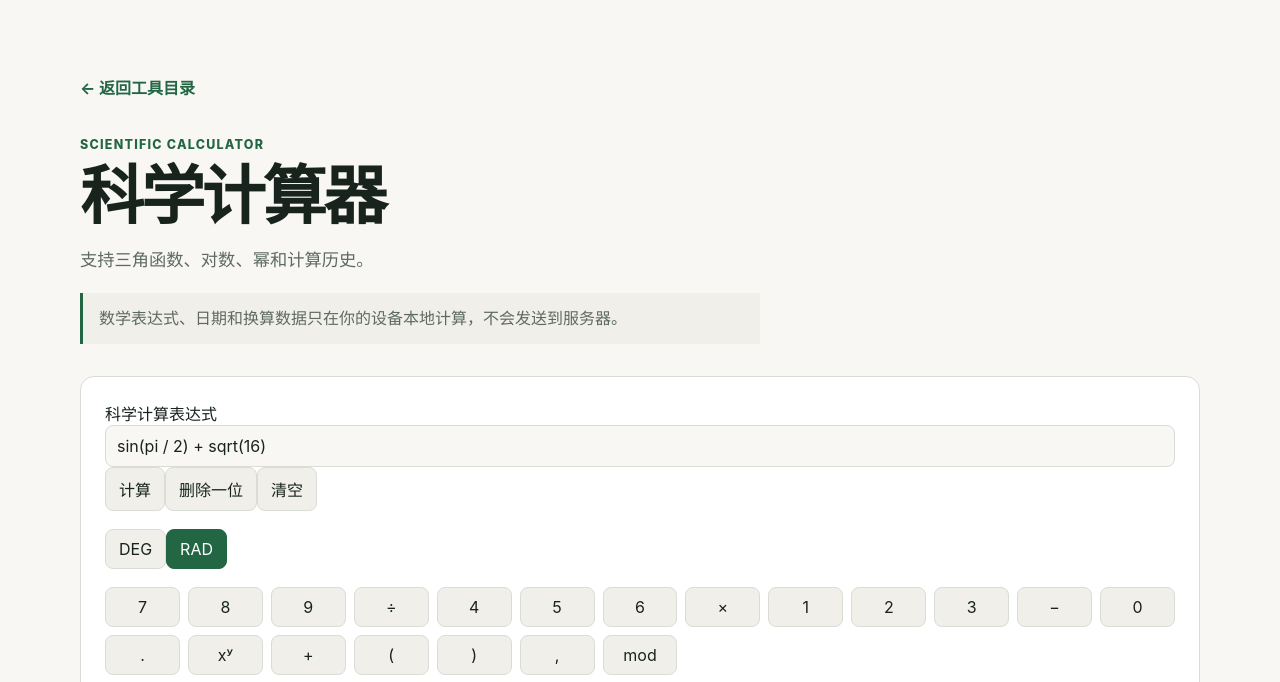
it: 计算工作台关键交互 › 科学计算失败时显示中文错误并清除旧结果
This screenshot has width=1280, height=682.
Replace the text in the field labelled "科学计算表达式" with "2+2" at (640, 446), box [105, 425, 1175, 467]
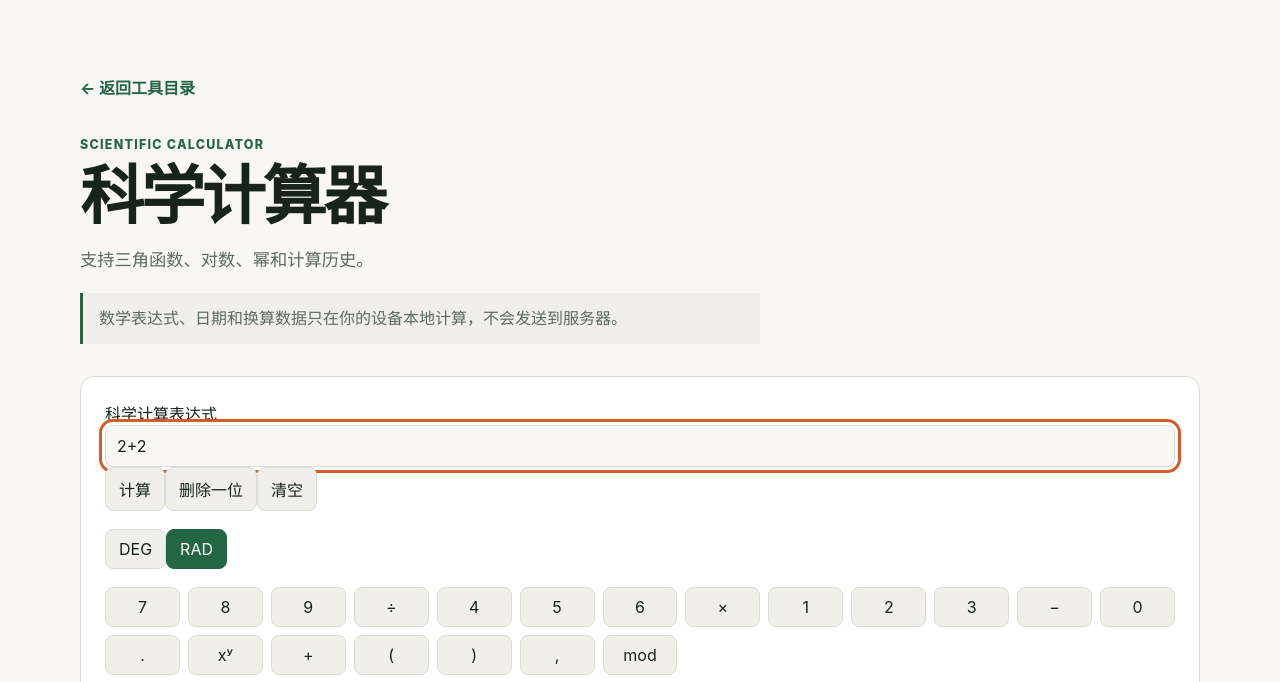
Click the button with aria-label "计算结果".
click(135, 489)  # box [105, 467, 165, 511]
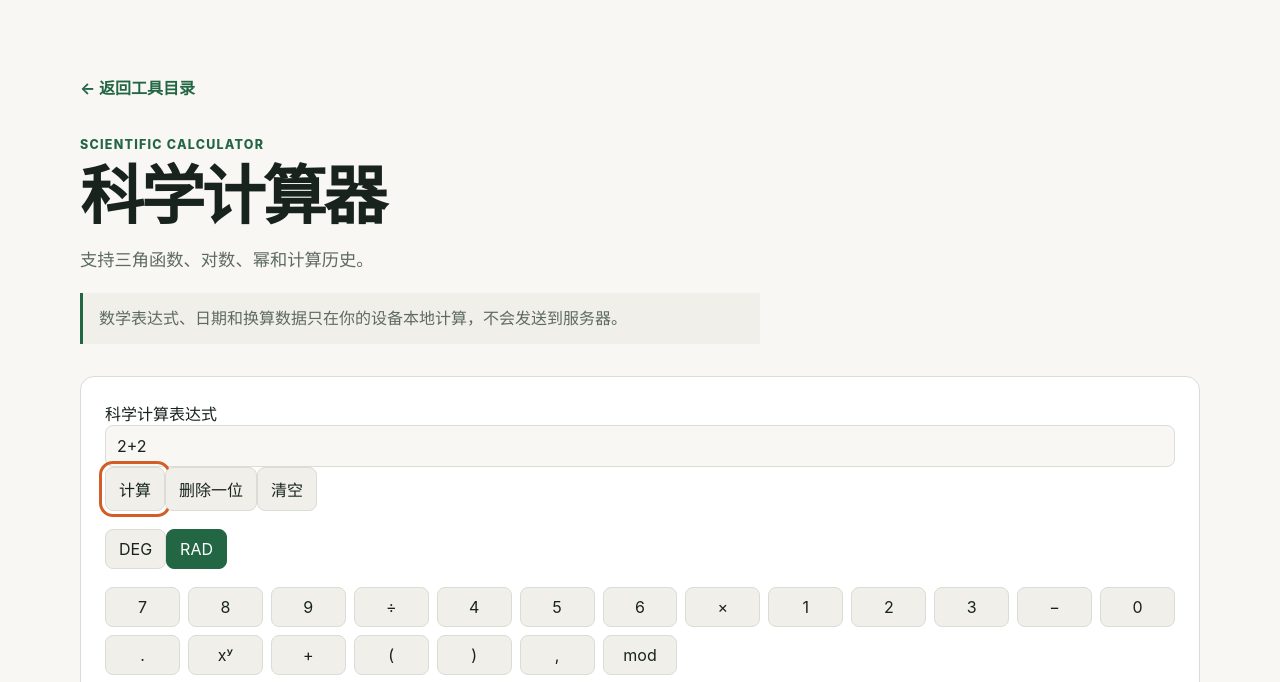
Replace the text in the field labelled "科学计算表达式" with "1/0" at (640, 446), box [105, 425, 1175, 467]
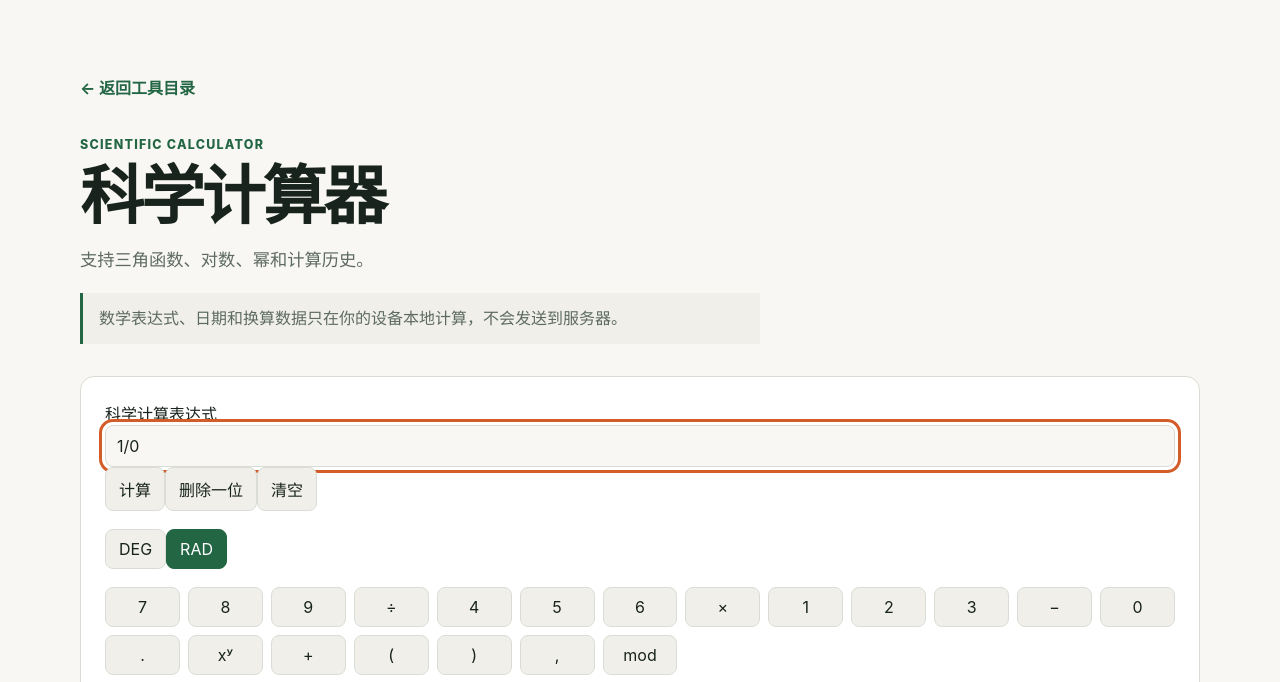
Click the button with aria-label "计算结果".
click(135, 489)  # box [105, 467, 165, 511]
(page scrolled)
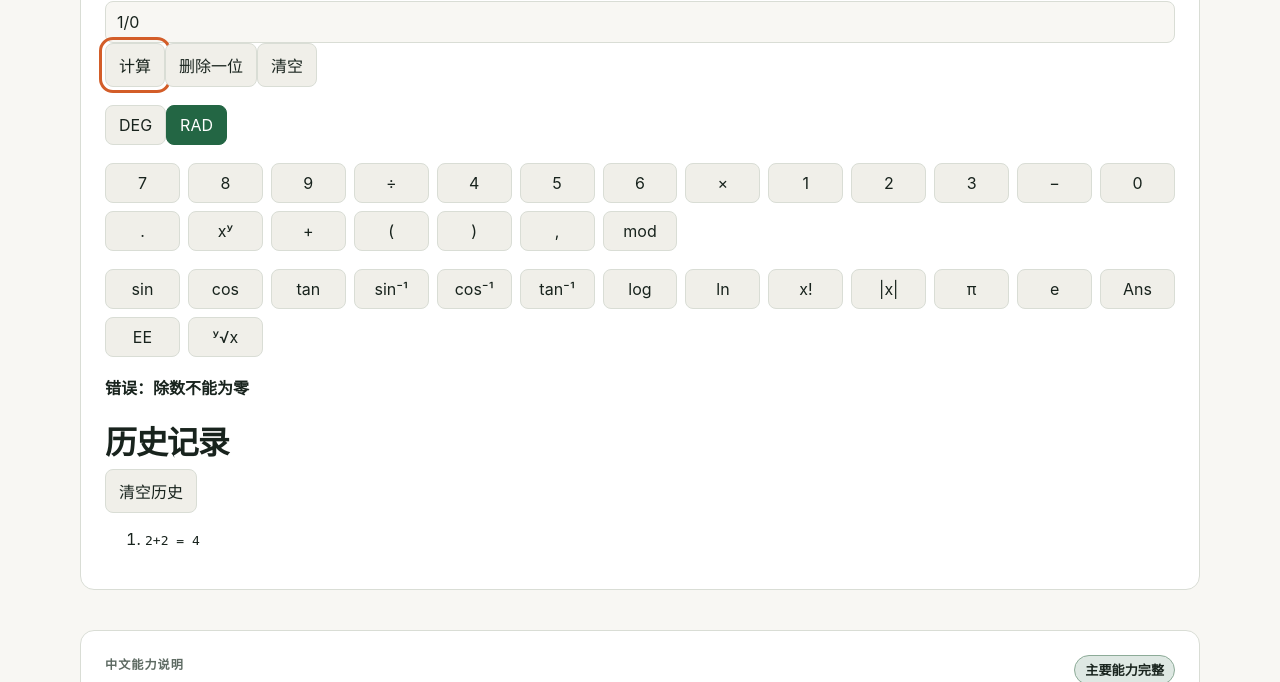
expect the message reads "除数不能为零": met, box [153, 378, 249, 398]
